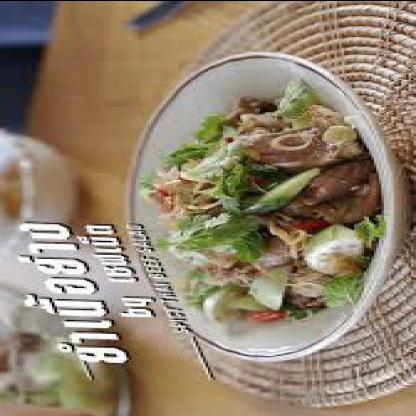Yum: (146, 63, 398, 336)
